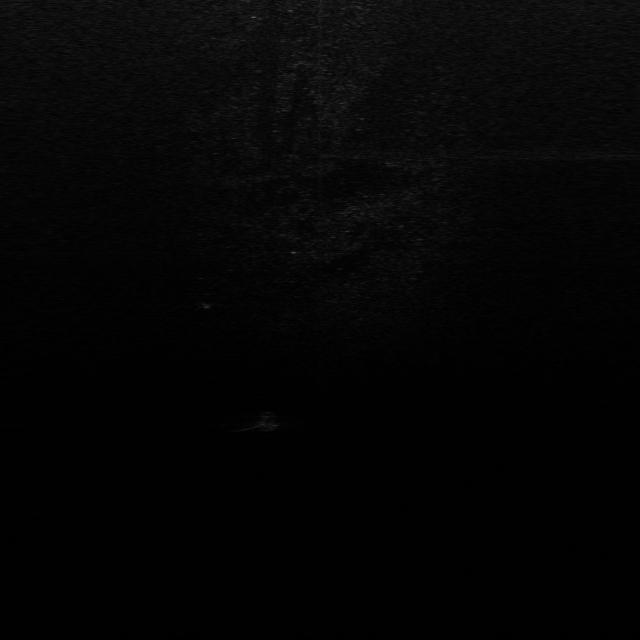ball: (250, 408, 280, 432)
circle cage: (194, 289, 220, 311)
